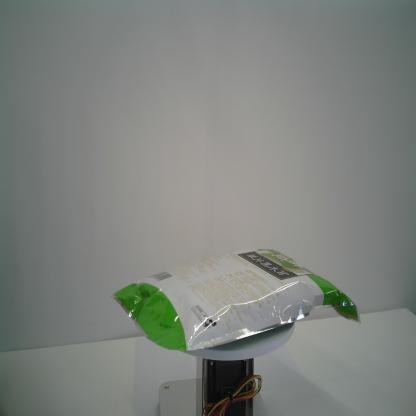Dried Food: (106, 246, 364, 353)
